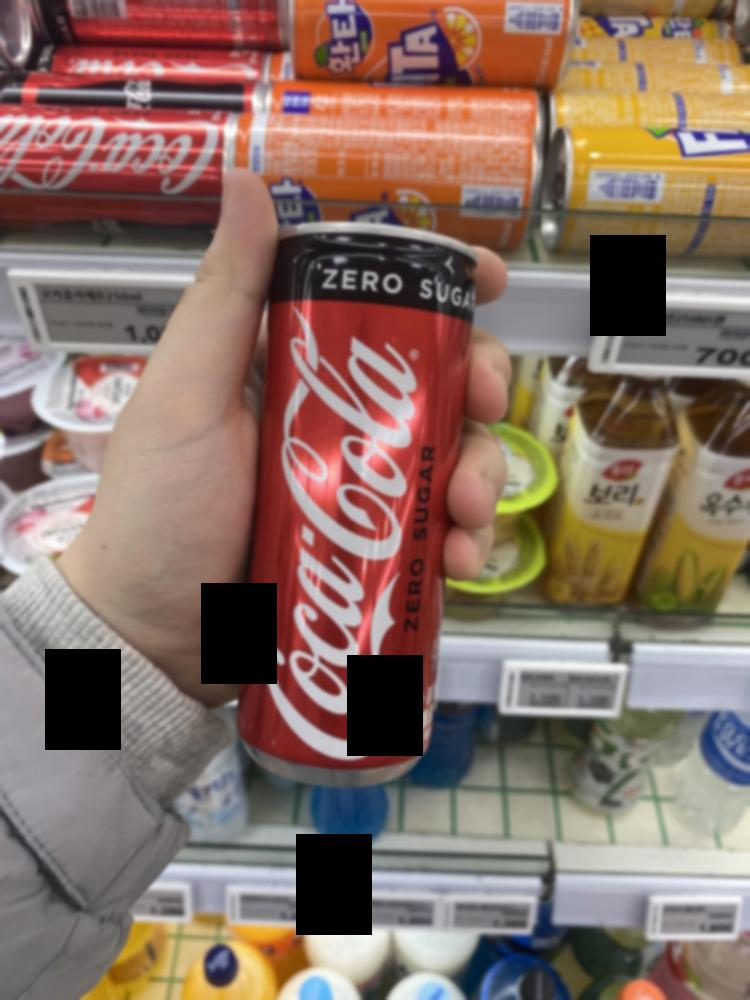cocacola_zero: (241, 195, 485, 794)
